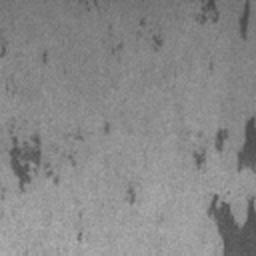Red iron sheet: (193, 117, 256, 256), (195, 0, 250, 40), (67, 121, 111, 167), (9, 133, 41, 193), (125, 182, 136, 205), (152, 35, 163, 52), (111, 43, 123, 55), (0, 41, 7, 58), (41, 50, 48, 64), (77, 228, 83, 243)
